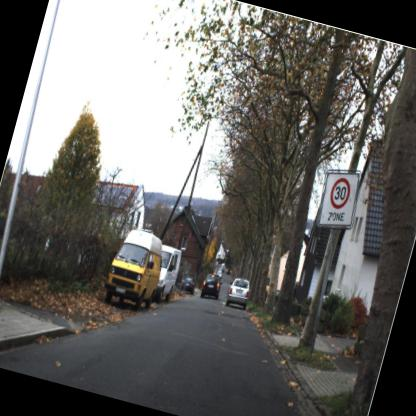prohibitory: (324, 174, 355, 216)
